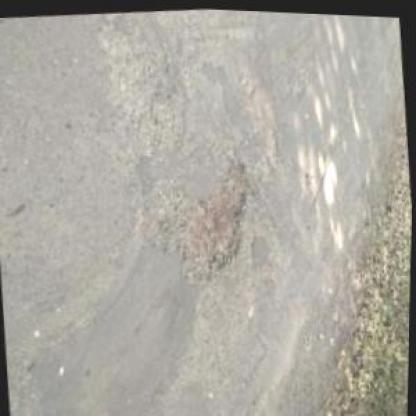pothole: (169, 151, 259, 282)
